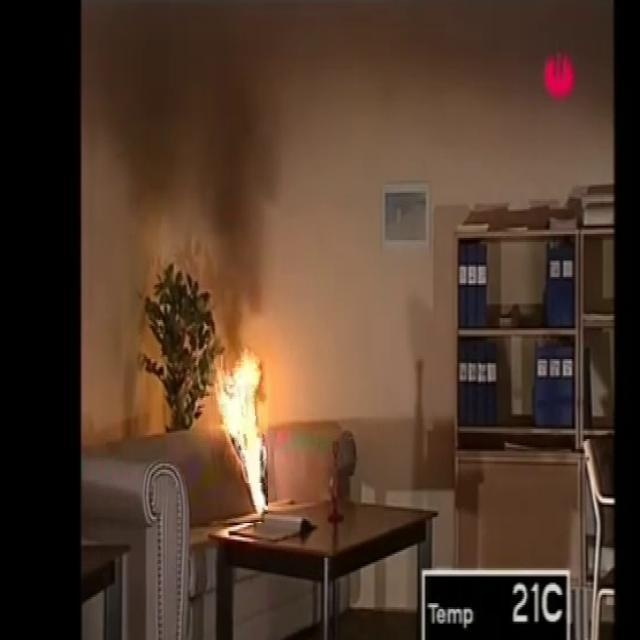fire: (212, 352, 288, 513)
